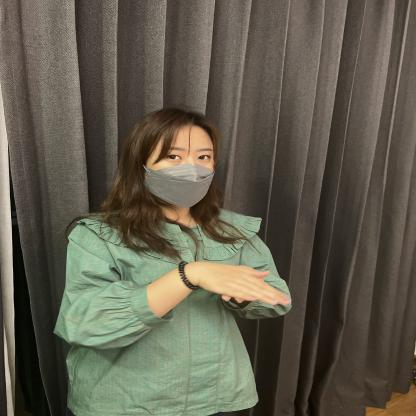Love: (61, 229, 395, 366)
